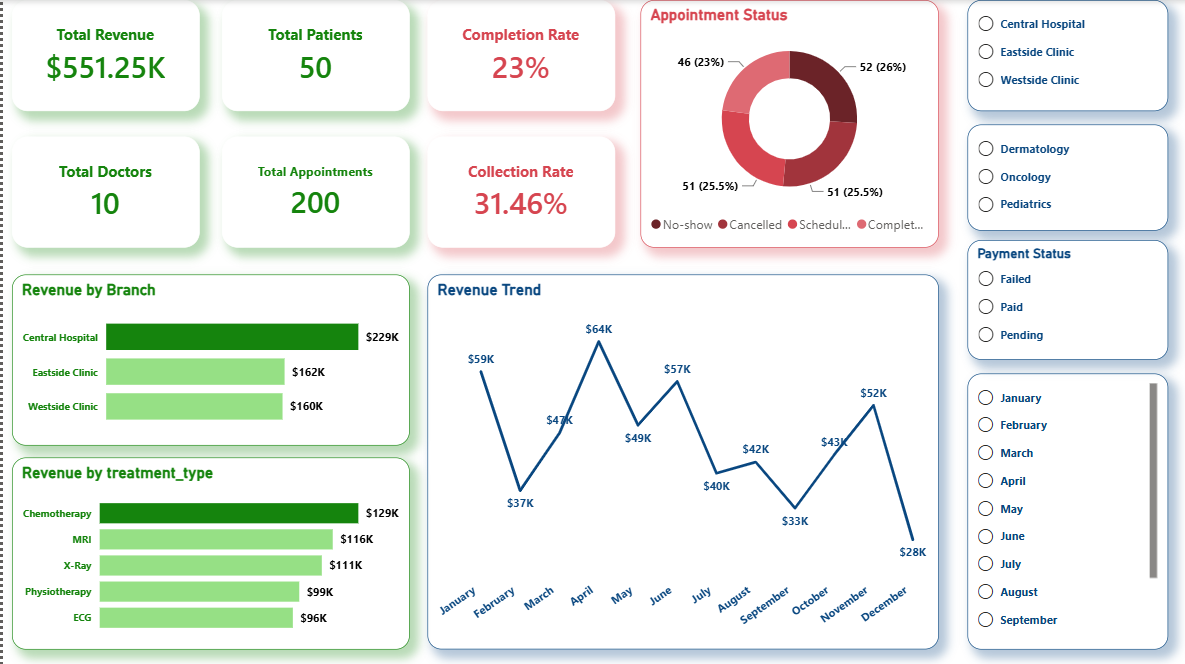

This screenshot's page, from the dashboard's own definition file:
{"tool":"powerbi","page":{"name":"EXECUTIVE OVERVIEW","canvas":[1280,720],"ordinal":0},"visuals":[{"type":"cardVisual","fields":{"Data":["billing_cleaned.Total Revenue"]},"box":[9.7,0,202.4,119.8],"z":0},{"type":"cardVisual","fields":{"Data":["patients_cleaned.Total Patients"]},"box":[236.4,0,202.4,119.8],"z":1000},{"type":"cardVisual","fields":{"Data":["doctors_cleaned.Total Doctors"]},"box":[9.7,147.3,202.4,119.8],"z":2000},{"type":"cardVisual","fields":{"Data":["appointments_cleaned.Total Appointments"]},"box":[236.4,147.3,202.4,119.8],"z":3000},{"type":"cardVisual","fields":{"Data":["appointments_cleaned.Completion Rate"]},"box":[458.2,0,202.4,119.8],"z":4000},{"type":"cardVisual","fields":{"Data":["billing_cleaned.Collection Rate"]},"box":[458.2,147.3,202.4,119.8],"z":5000},{"type":"lineChart","title":"Revenue Trend","fields":{"Y":["billing_cleaned.Total Revenue"],"Category":["billing_cleaned.bill_date.Variation.Date Hierarchy.Month"]},"box":[458.2,296.3,552.2,404.8],"z":6000},{"type":"donutChart","title":"Appointment Status","fields":{"Category":["appointments_cleaned.status"],"Y":["appointments_cleaned.Total Appointments"]},"box":[688.2,0,322.2,267.2],"z":7000},{"type":"clusteredBarChart","title":"Revenue by Branch","fields":{"Category":["doctors_cleaned.hospital_branch"],"Y":["billing_cleaned.Total Revenue"]},"box":[9.7,296.3,429.1,184.6],"z":8000},{"type":"clusteredBarChart","title":"Revenue by treatment_type","fields":{"Y":["billing_cleaned.Total Revenue"],"Category":["treatments_cleaned.treatment_type"]},"box":[9.7,493.9,429.1,207.3],"z":9000},{"type":"listSlicer","fields":{"Values":["billing_cleaned.bill_date.Variation.Date Hierarchy.Month"]},"box":[1041.2,403.2,217,297.9],"z":10000},{"type":"listSlicer","fields":{"Values":["doctors_cleaned.hospital_branch"]},"box":[1041.2,0,217,119.8],"z":11000},{"type":"listSlicer","fields":{"Values":["doctors_cleaned.specialization"]},"box":[1041.2,134.4,217,115],"z":12000},{"type":"listSlicer","title":"Payment Status","fields":{"Values":["billing_cleaned.payment_status"]},"box":[1041.2,259.1,217,129.5],"z":12001}]}

Visuals, with their boxes in screenshot pixels (x1, y1, x2, y2), scaled from the page's 1280x720 canvas onto the 1185x664 screenshot:
cardVisual - billing_cleaned.Total Revenue: bbox=(9, 0, 196, 110)
cardVisual - patients_cleaned.Total Patients: bbox=(219, 0, 406, 110)
cardVisual - doctors_cleaned.Total Doctors: bbox=(9, 136, 196, 246)
cardVisual - appointments_cleaned.Total Appointments: bbox=(219, 136, 406, 246)
cardVisual - appointments_cleaned.Completion Rate: bbox=(424, 0, 612, 110)
cardVisual - billing_cleaned.Collection Rate: bbox=(424, 136, 612, 246)
"Revenue Trend" lineChart: bbox=(424, 273, 935, 647)
"Appointment Status" donutChart: bbox=(637, 0, 935, 246)
"Revenue by Branch" clusteredBarChart: bbox=(9, 273, 406, 443)
"Revenue by treatment_type" clusteredBarChart: bbox=(9, 455, 406, 647)
listSlicer - billing_cleaned.bill_date.Variation.Date Hierarchy.Month: bbox=(964, 372, 1165, 647)
listSlicer - doctors_cleaned.hospital_branch: bbox=(964, 0, 1165, 110)
listSlicer - doctors_cleaned.specialization: bbox=(964, 124, 1165, 230)
"Payment Status" listSlicer: bbox=(964, 239, 1165, 358)
